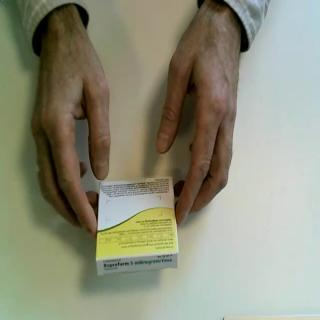buprefarm5ug_hour: (95, 175, 181, 277)
